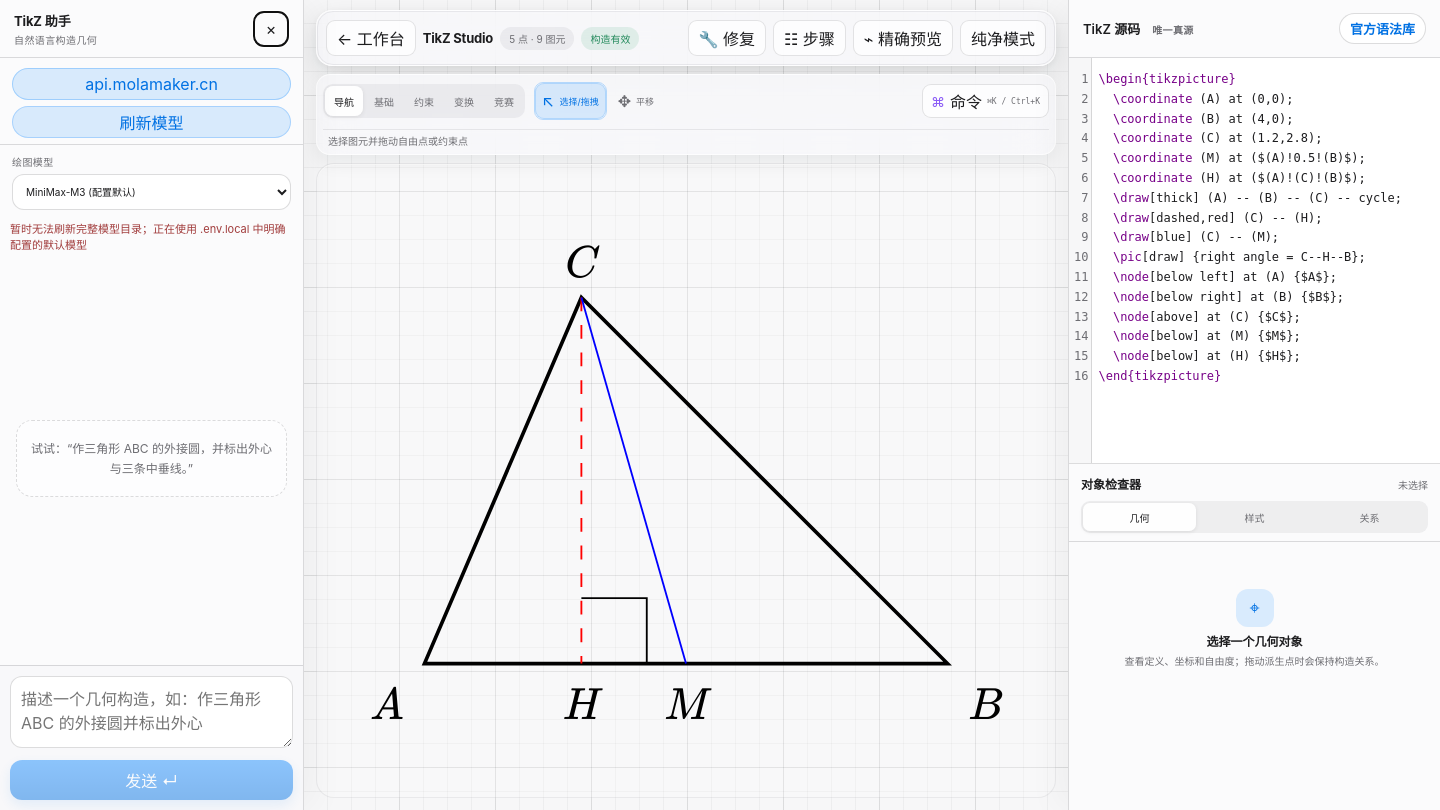
TikzStudio › keeps the configured model usable when catalog refresh fails and can refresh again
This screenshot has width=1440, height=810.
Expected: the text "暂时无法刷新完整模型目录；正在使用 .env.local 中明确配置的默认模型" is shown, [10, 220, 293, 252]
Click the button with aria-label "刷新模型列表".
click(152, 122)  # box [12, 106, 291, 138]
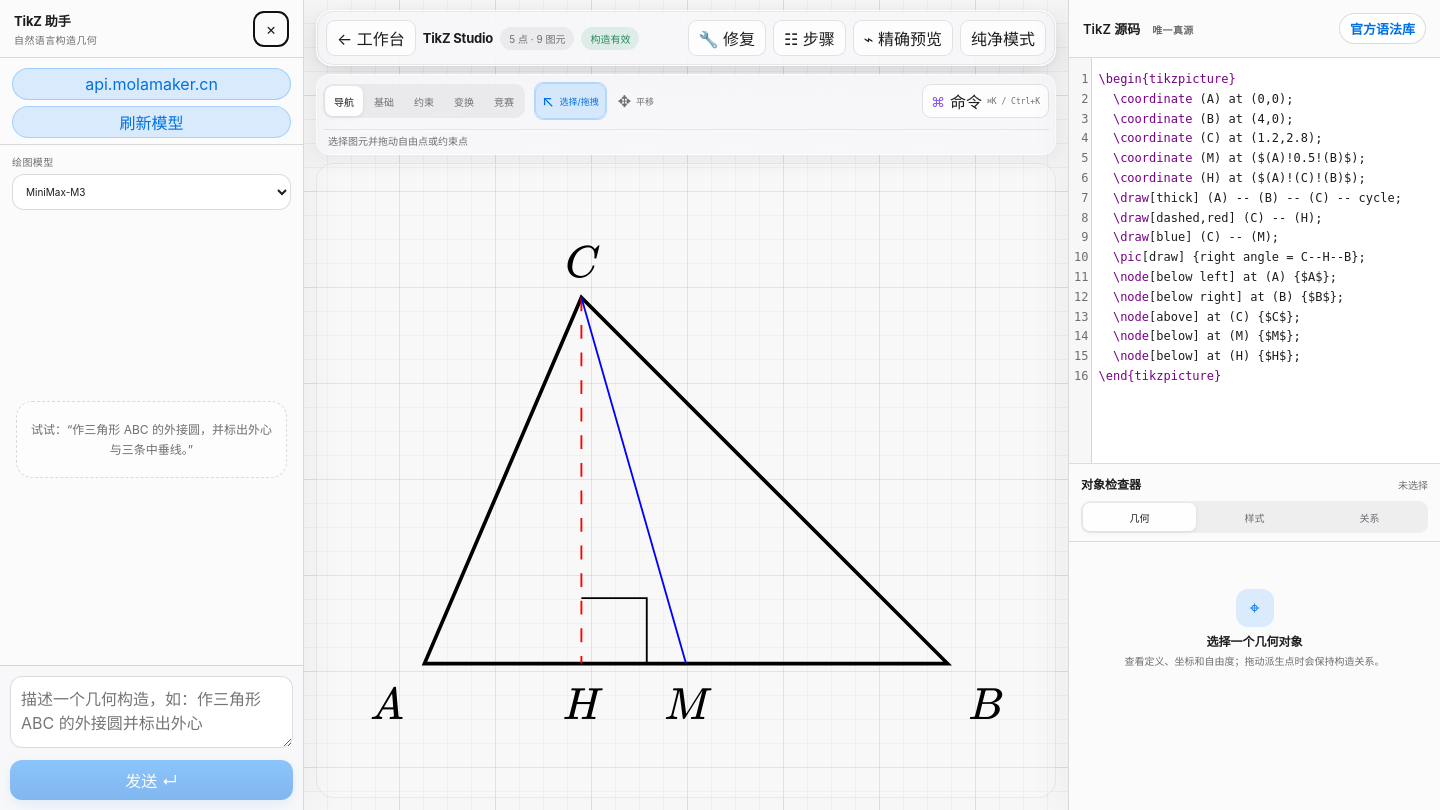
Expected: the text "暂时无法刷新完整模型目录" is gone
